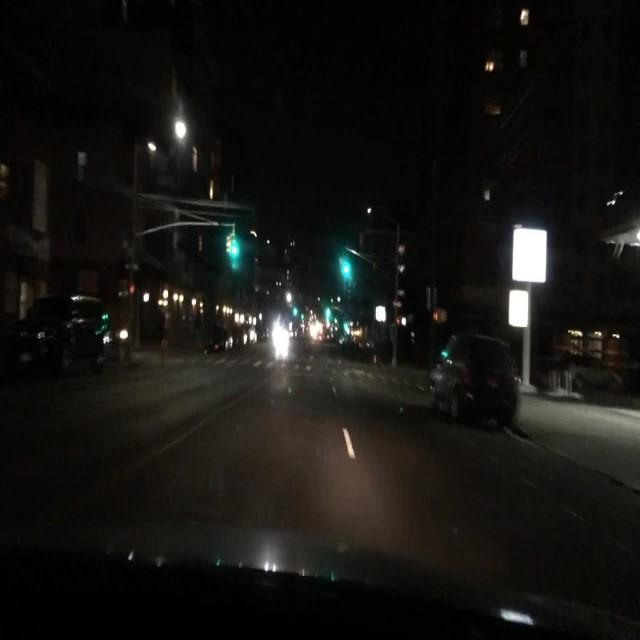normal: (430, 333, 522, 424), (16, 296, 110, 378)
